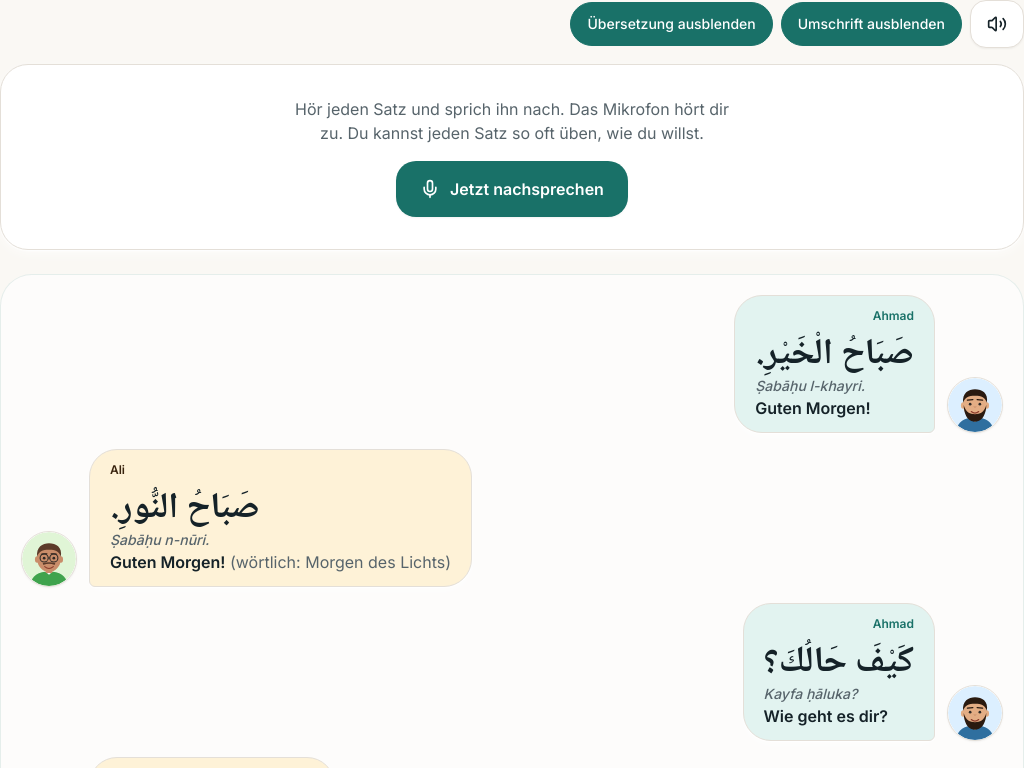
Test: Nachsprechen – retries and errors › two evaluation errors in a row → buttons and a note; progress kept; a service error is not a 'wrong' answer
The width and height of the screenshot is (1024, 768).
Click the button with test id "start-button": [512, 189] box [396,161,628,217]
Wait 1225 ms
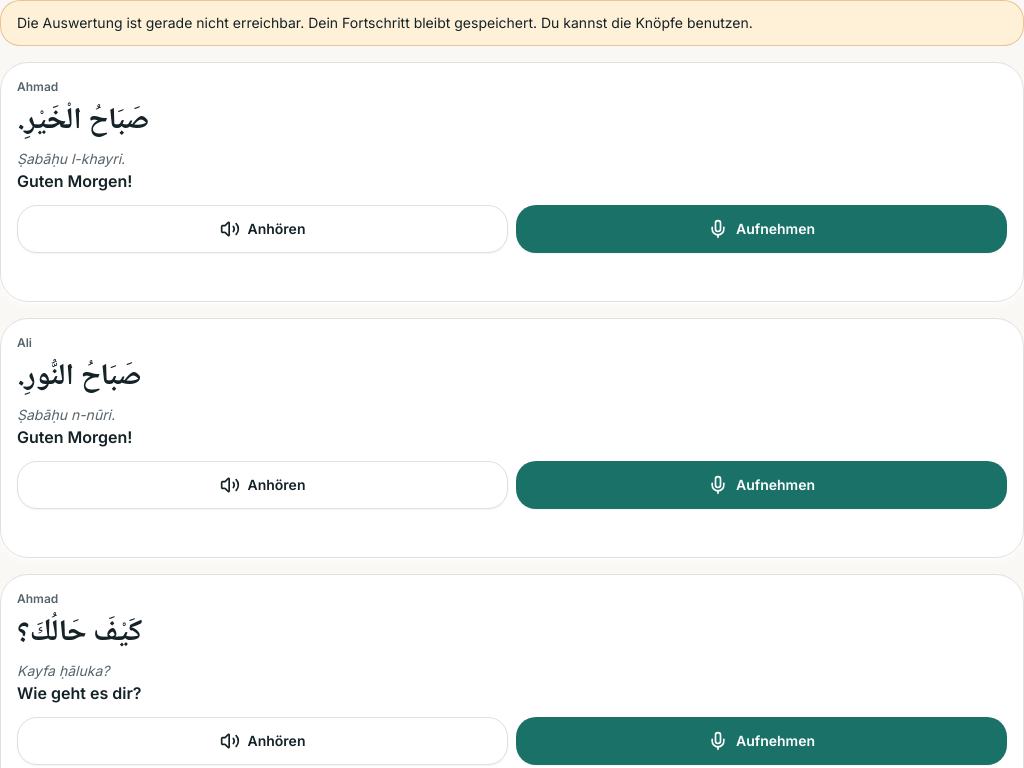
Check: the message with test id "dialogue-note" shows "Die Auswertung ist gerade nicht erreichbar.", box [17,14,753,31]
